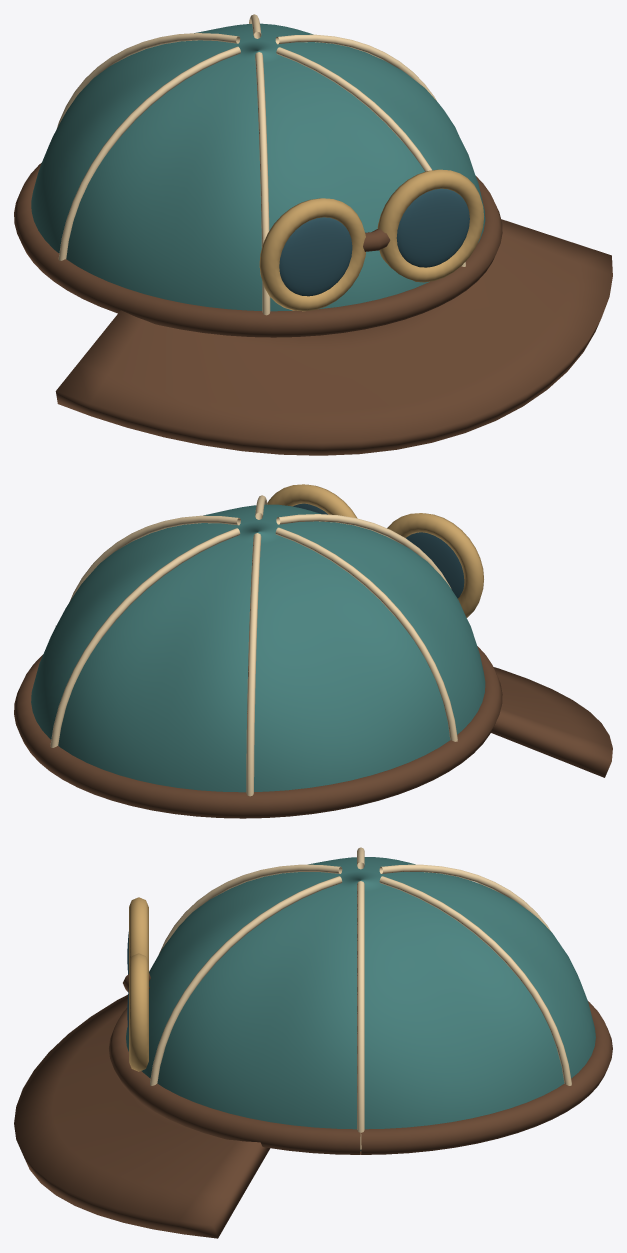
File: hat_mechanic_crafted.glb
3 renders of one model, top to bottom at view 1: azimuth 30°, elevation 25°; view 2: azimuth 150°, elevation 25°; view 3: azimuth 270°, elevation 25°, orthographic. The views are drawn at different scales.
Parts seen in each view (by area): view 1: Oiled walnut grip, WovenClothSeaCap, Satin antique brass, Smoked blue goggle glass, Warm linen stitching; view 2: WovenClothSeaCap, Oiled walnut grip, Warm linen stitching, Satin antique brass, Smoked blue goggle glass; view 3: WovenClothSeaCap, Oiled walnut grip, Warm linen stitching, Satin antique brass.
Part boxes in pixels (box(x1,y1,x2,y2)): Oiled walnut grip: box(14, 163, 612, 455); WovenClothSeaCap: box(31, 23, 485, 311); Satin antique brass: box(259, 169, 483, 311); Smoked blue goggle glass: box(279, 188, 469, 296); Warm linen stitching: box(57, 14, 465, 315); WovenClothSeaCap: box(31, 504, 485, 792); Oiled walnut grip: box(14, 626, 612, 818); Warm linen stitching: box(50, 495, 457, 796); Satin antique brass: box(267, 484, 483, 617); Smoked blue goggle glass: box(293, 503, 464, 598); WovenClothSeaCap: box(126, 857, 595, 1151); Oiled walnut grip: box(14, 973, 612, 1238); Warm linen stitching: box(150, 847, 571, 1149); Satin antique brass: box(129, 897, 148, 1071).
Size of the model in its own units: 0.8143 by 0.383 by 0.777.
